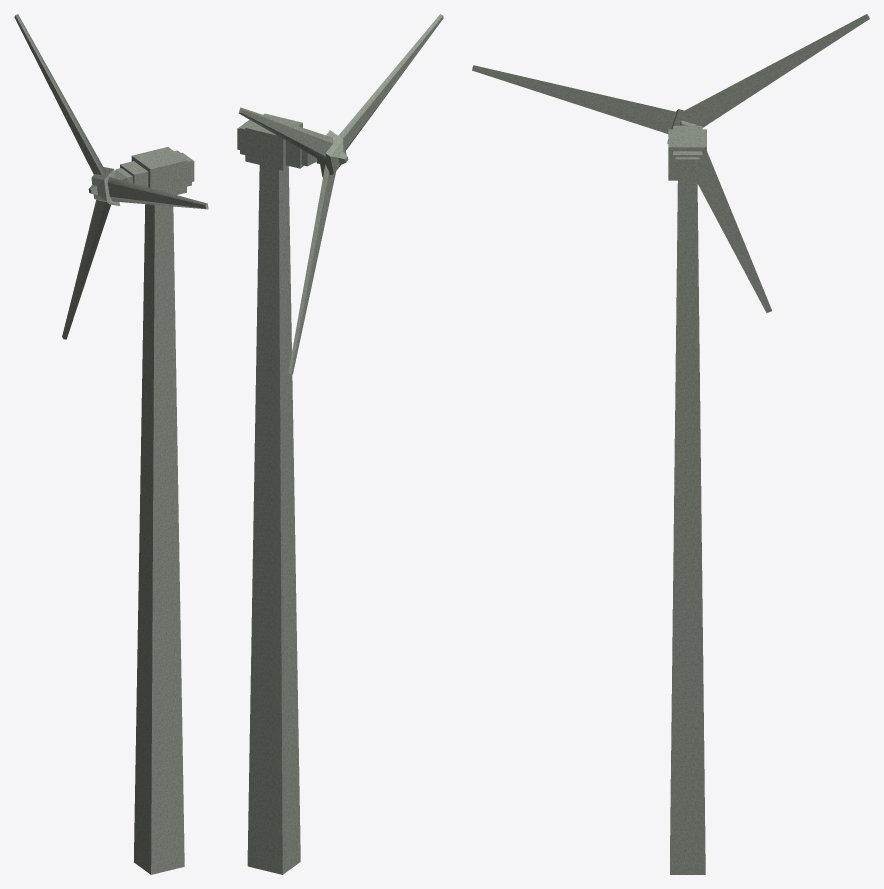
The model's file is BLOCKYGON_WINDMILL.fbx.
The picture shows the model from 3 angles, left to right: view 1: azimuth 30°, elevation 25°; view 2: azimuth 150°, elevation 25°; view 3: azimuth 270°, elevation 25°; orthographic projection. The views are drawn at different scales.
Parts seen in each view (by area): view 1: BLOCKYGON_WINDMILL, FAN; view 2: BLOCKYGON_WINDMILL, FAN; view 3: BLOCKYGON_WINDMILL, FAN.
Boxes of the visible parts, <box> form: BLOCKYGON_WINDMILL: <box>114,147,194,874</box>; FAN: <box>14,14,208,339</box>; BLOCKYGON_WINDMILL: <box>237,113,317,874</box>; FAN: <box>238,14,443,374</box>; BLOCKYGON_WINDMILL: <box>668,125,706,874</box>; FAN: <box>472,14,869,312</box>.
Size of the model in its own units: 340 by 2634 by 1151.
